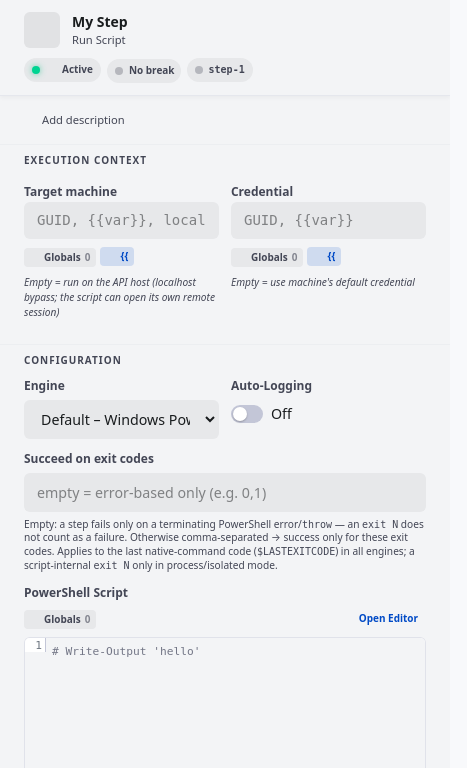
Scenario: PropertiesPanel — description (lazy reveal) › clicking the link reveals the textarea
Click the button "Add description". click: (74, 120)
box: [16, 108, 133, 132]
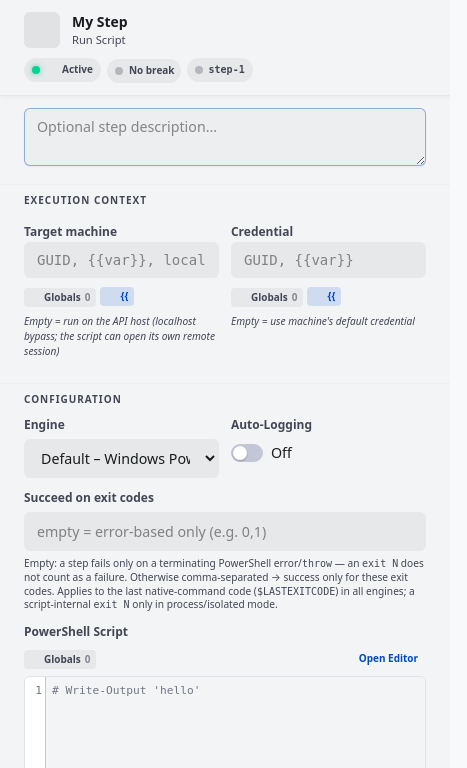
Now the text box with placeholder "Optional step description…" is shown, box [24, 108, 426, 166]
